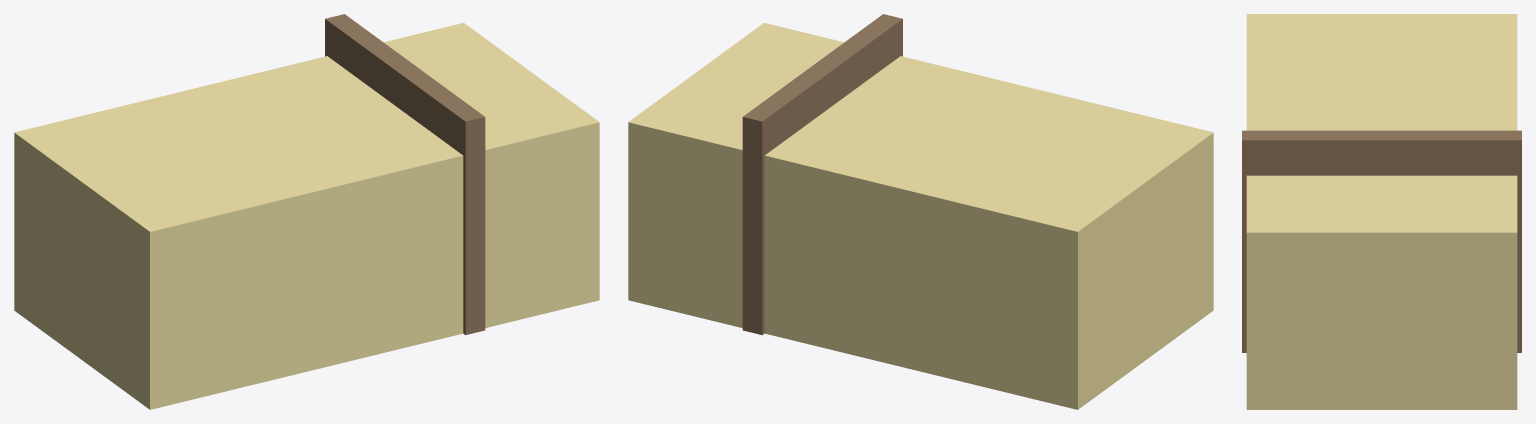
The model's file is Prop_Live_AMF_HayBale_V3.glb.
The picture shows the model from 3 angles, left to right: view 1: azimuth 30°, elevation 25°; view 2: azimuth 150°, elevation 25°; view 3: azimuth 270°, elevation 25°; orthographic projection.
Parts seen in each view (by area): view 1: Prop_Live_AMF_HayBale_V3; view 2: Prop_Live_AMF_HayBale_V3; view 3: Prop_Live_AMF_HayBale_V3.
Part boxes in pixels (box(x1,y1,x2,y2)): Prop_Live_AMF_HayBale_V3: box(14, 14, 599, 409); Prop_Live_AMF_HayBale_V3: box(628, 14, 1213, 409); Prop_Live_AMF_HayBale_V3: box(1242, 14, 1521, 409).
Size of the model in its own units: 1.15 by 0.52 by 0.62.
